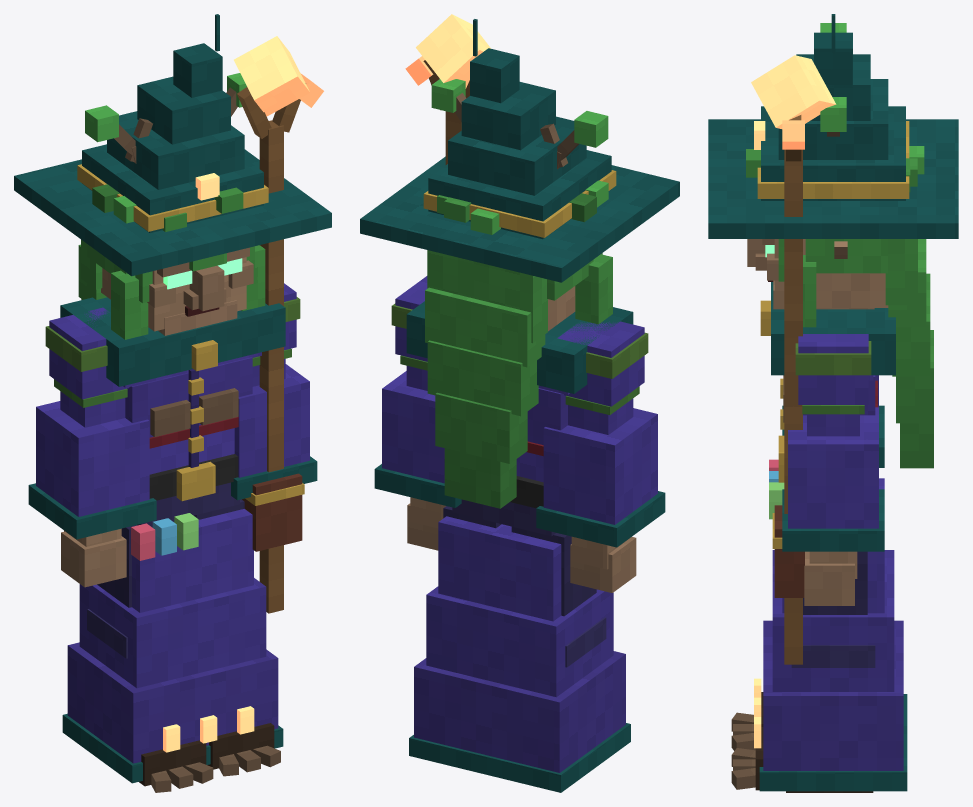
Rendered from dryad_mage_v3.glb.
3 renders of one model, left to right at view 1: azimuth 30°, elevation 25°; view 2: azimuth 150°, elevation 25°; view 3: azimuth 270°, elevation 25°, orthographic. The views are drawn at different scales.
Parts seen in each view (by area): view 1: Head, Root, Torso, ArmR, HandL, ArmL, LegR, LegL; view 2: Head, Root, ArmR, ArmL, Torso, HandL, LegR; view 3: Head, Root, ArmL, HandL, Torso, LegL, ArmR.
Boxes of the visible parts, <box> form: Head: <box>14,14,331,339</box>; Root: <box>62,509,283,792</box>; Torso: <box>60,297,304,560</box>; ArmR: <box>28,307,156,587</box>; HandL: <box>234,36,323,613</box>; ArmL: <box>231,283,317,500</box>; LegR: <box>87,520,206,786</box>; LegL: <box>194,499,274,769</box>; Head: <box>360,19,679,508</box>; Root: <box>409,516,630,792</box>; ArmR: <box>536,321,665,592</box>; ArmL: <box>374,276,461,550</box>; Torso: <box>406,301,633,536</box>; HandL: <box>405,14,490,164</box>; LegR: <box>511,526,606,667</box>; Head: <box>708,14,958,468</box>; Root: <box>731,478,907,791</box>; ArmL: <box>782,334,884,605</box>; HandL: <box>751,55,836,664</box>; Torso: <box>760,282,895,597</box>; LegL: <box>755,551,875,792</box>; ArmR: <box>782,375,884,467</box>.
Bounding box in the file's own units: 0.8034 × 2.23 × 0.66.
46 materials, 46 textured.
